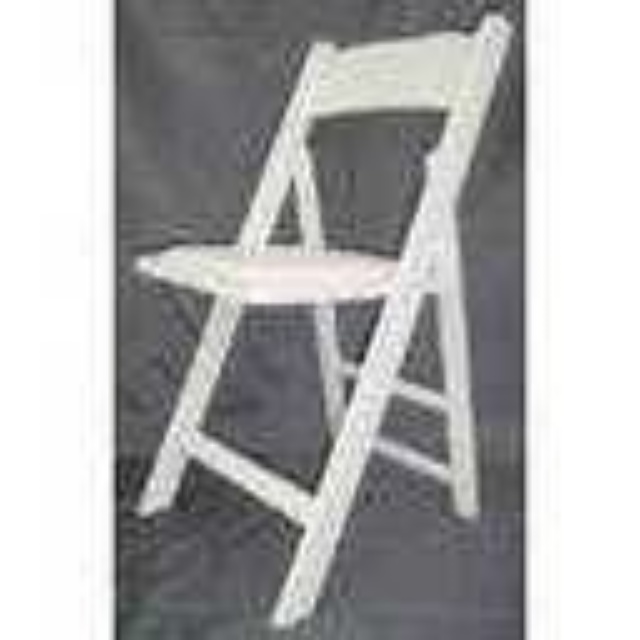obstacle: (120, 0, 520, 635)
